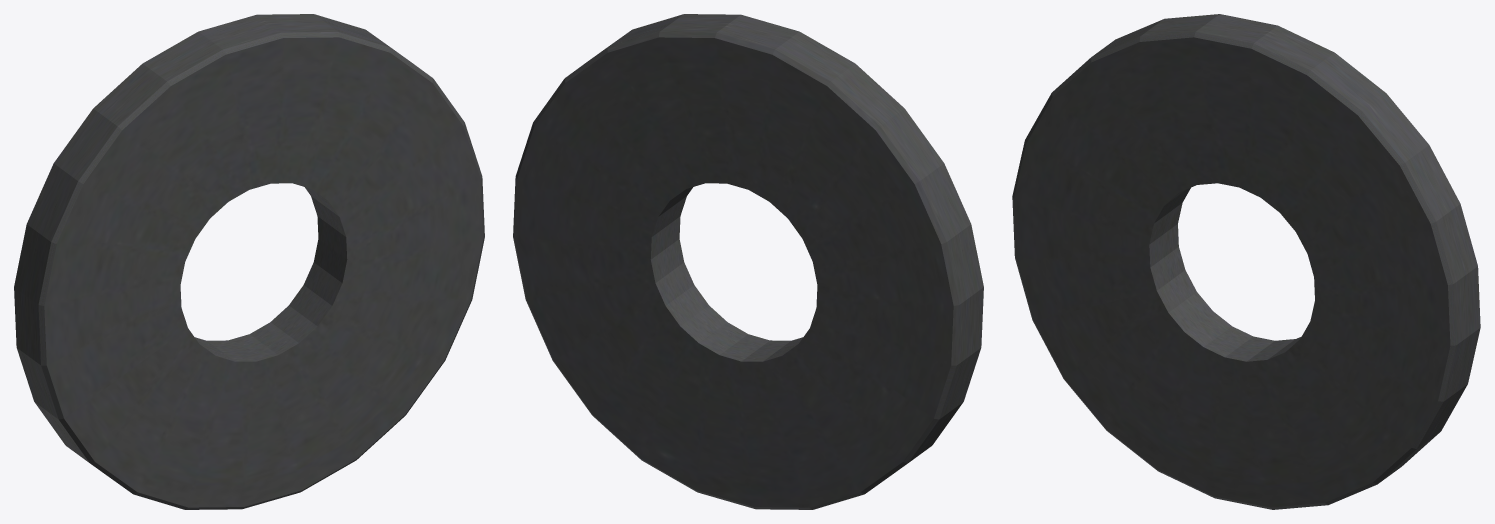
Rendered from Washer1.dae.
3 views of the same model, side by side, from view 1: azimuth 30°, elevation 25°; view 2: azimuth 150°, elevation 25°; view 3: azimuth 330°, elevation 25° (orthographic).
Visible parts, largest first — view 1: Washer1; view 2: Washer1; view 3: Washer1.
Boxes of the visible parts, x1,y1,x2,y2 form: Washer1: (14,14,484,509); Washer1: (513,14,983,509); Washer1: (1012,14,1480,509).
Size of the model in its own units: 0.0154 by 0.00172 by 0.0154.
1 material, 1 textured.
